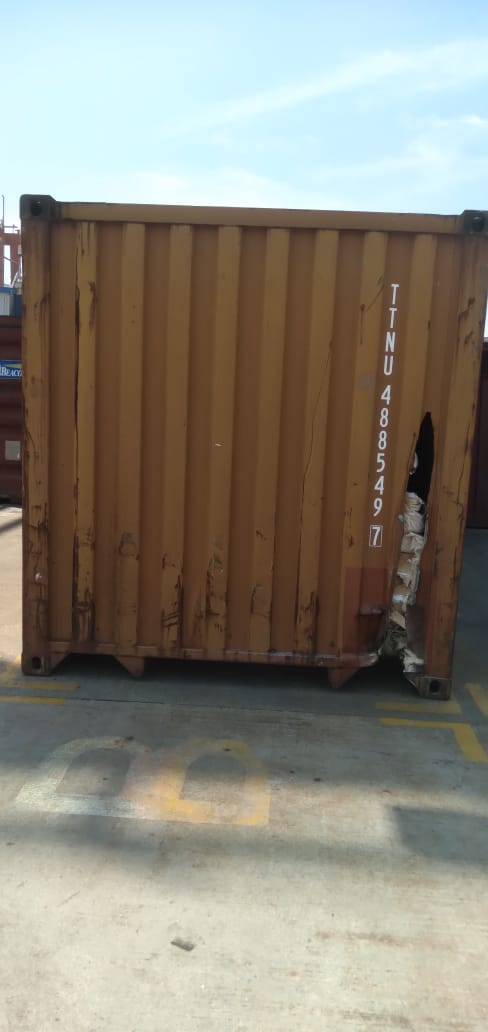cut: (367, 407, 458, 680)
